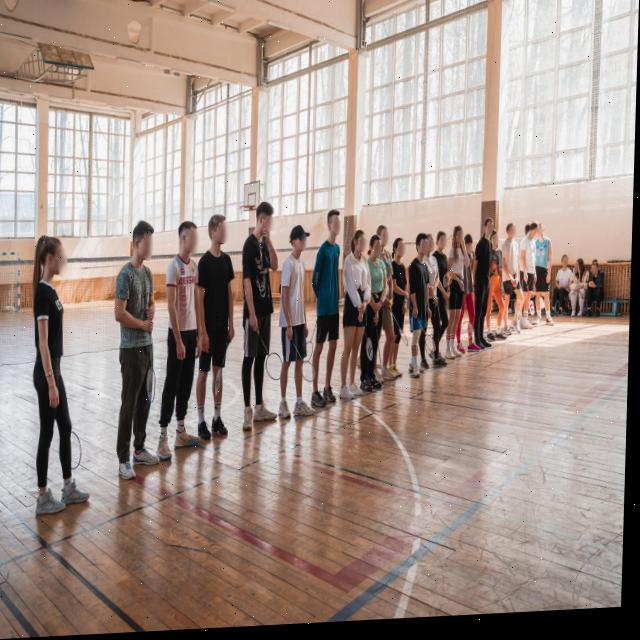Person: (18, 219, 105, 535), (109, 213, 167, 492), (228, 193, 285, 448), (159, 215, 206, 464), (198, 202, 241, 453), (310, 207, 351, 419), (276, 216, 316, 429), (340, 227, 377, 409), (361, 238, 388, 405), (470, 214, 498, 369), (385, 233, 412, 392), (405, 232, 431, 385), (373, 226, 396, 391), (515, 218, 542, 345), (430, 226, 450, 392), (447, 212, 467, 377), (498, 222, 522, 350), (423, 238, 441, 380), (533, 227, 556, 333), (487, 232, 506, 357), (551, 252, 578, 332), (569, 252, 595, 321), (586, 261, 610, 323)
